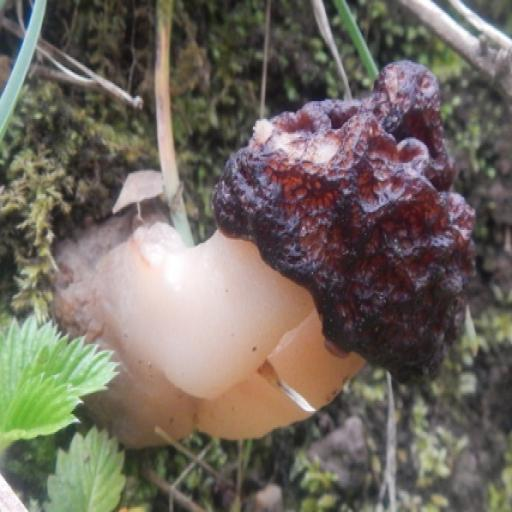mushroom: (202, 52, 475, 417)
